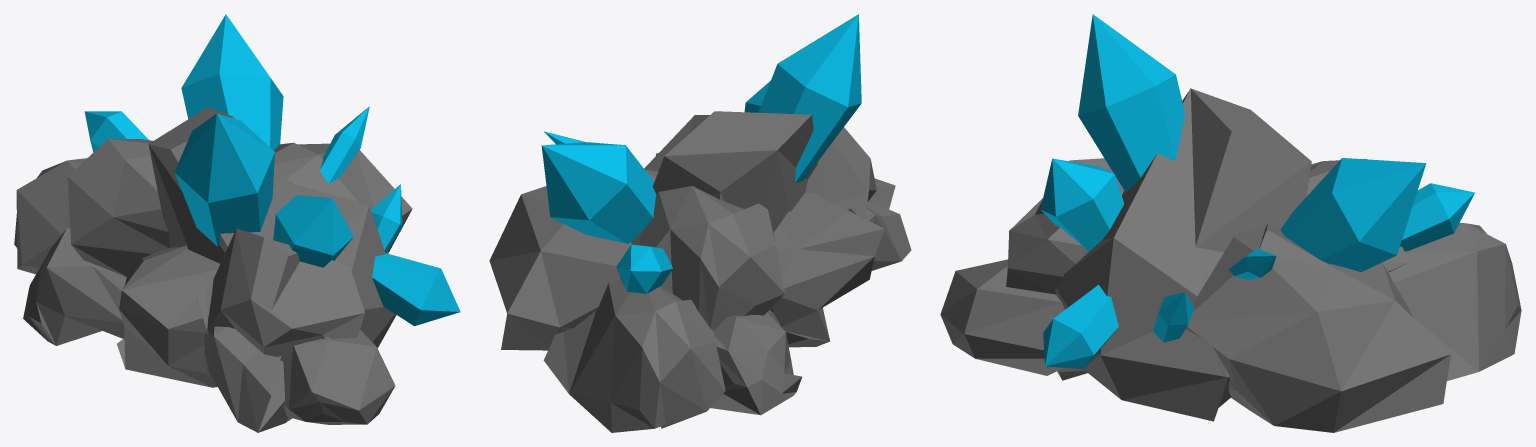
Rendered from Dummy_Crystal_Rock.fbx.
3 views of the same model, side by side, from view 1: azimuth 30°, elevation 25°; view 2: azimuth 150°, elevation 25°; view 3: azimuth 270°, elevation 25° (orthographic). The views are drawn at different scales.
Parts seen in each view (by area): view 1: Dummy_Crystal_Rock; view 2: Dummy_Crystal_Rock; view 3: Dummy_Crystal_Rock.
Part boxes in pixels (<box>): Dummy_Crystal_Rock: <box>14,14,460,432</box>; Dummy_Crystal_Rock: <box>489,14,911,432</box>; Dummy_Crystal_Rock: <box>940,14,1521,432</box>.
Size of the model in its own units: 8.43 by 7.64 by 12.55.
